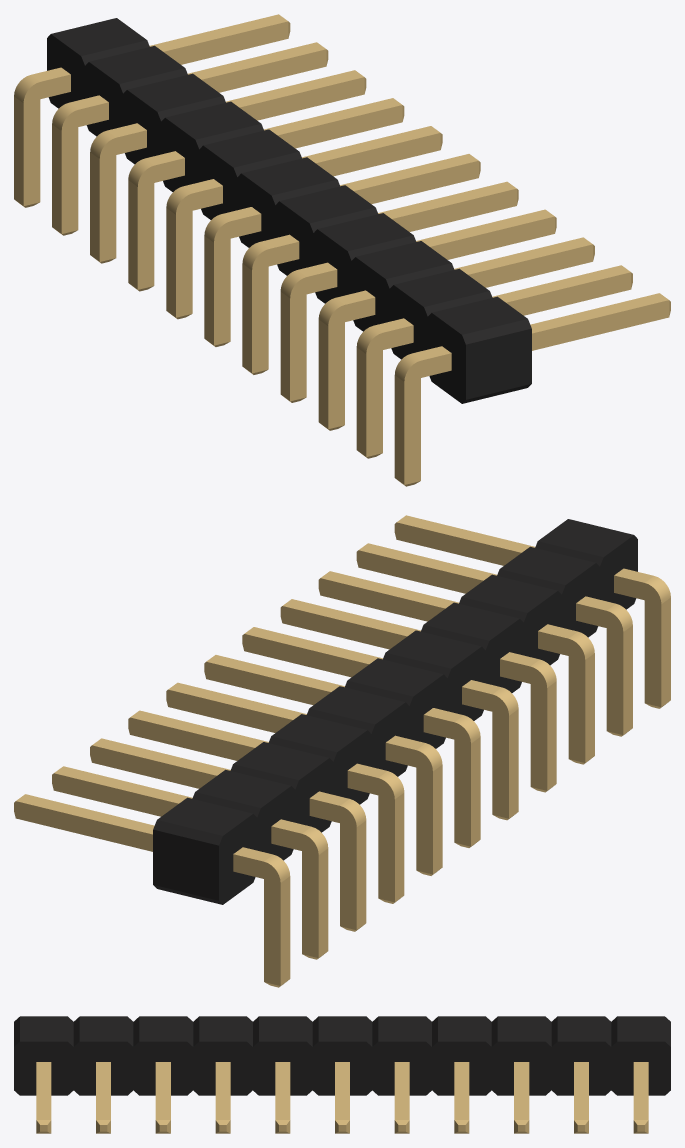
Rendered from kc-pinheader_1x11_p2.54mm_horizontal.glb.
The picture shows the model from 3 angles, top to bottom: view 1: azimuth 30°, elevation 25°; view 2: azimuth 150°, elevation 25°; view 3: azimuth 270°, elevation 25°; orthographic projection. The views are drawn at different scales.
Visible parts, largest first — view 1: 0.75_0.5_0.25_0.9, 0_0_0_0; view 2: 0.75_0.5_0.25_0.9, 0_0_0_0; view 3: 0_0_0_0, 0.75_0.5_0.25_0.9.
Boxes of the visible parts, left/top/right/bottom form: 0.75_0.5_0.25_0.9: left=14, top=14, right=670, bottom=486; 0_0_0_0: left=47, top=18, right=531, bottom=403; 0.75_0.5_0.25_0.9: left=14, top=515, right=670, bottom=987; 0_0_0_0: left=153, top=519, right=637, bottom=904; 0_0_0_0: left=14, top=1016, right=670, bottom=1095; 0.75_0.5_0.25_0.9: left=36, top=1062, right=648, bottom=1133.
Bounding box in the file's own units: 1.04 × 0.5541 × 2.79.
